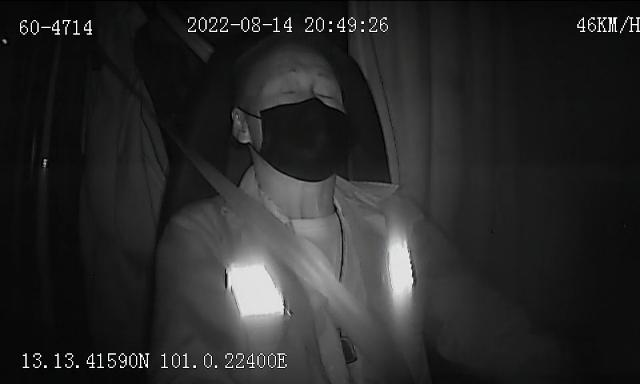Seatbelt: (188, 152, 390, 376)
